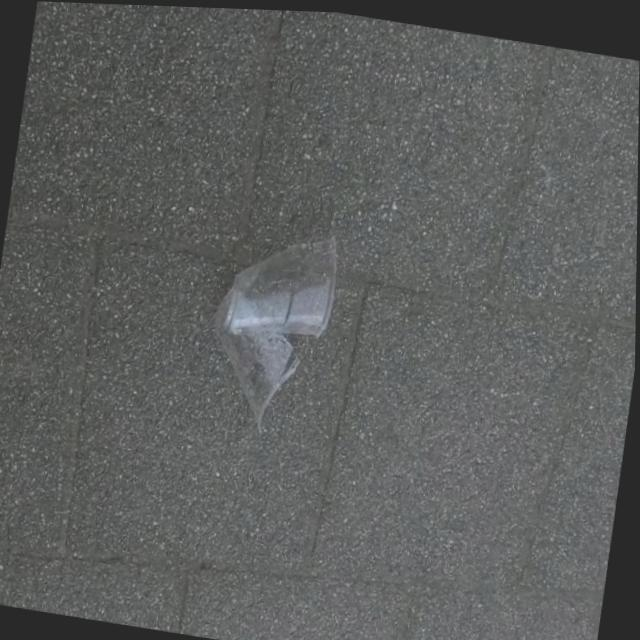Cup: (192, 211, 346, 444)
